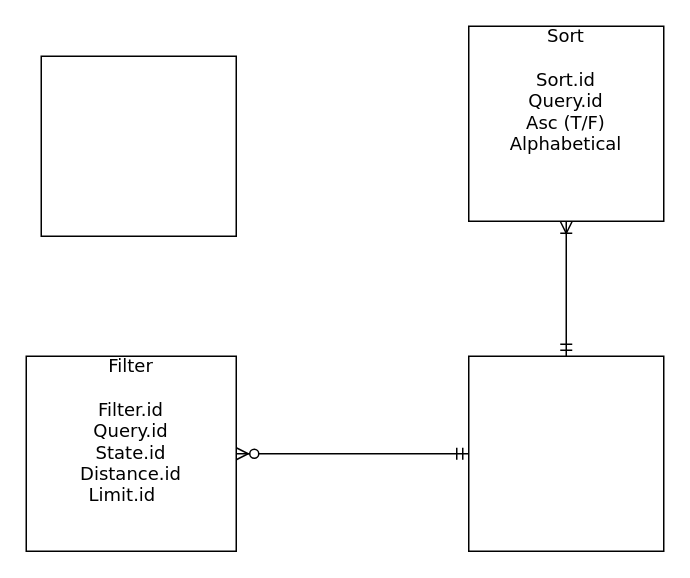
Image size: 690x578. Some labels were removed from this diagram. Each missing label, with the centre of its shape:
"Android's App: Contact RawContact.id Location.id" belongs at pixel 138 145.
"Query Query.id Contact" belongs at pixel 565 453.
